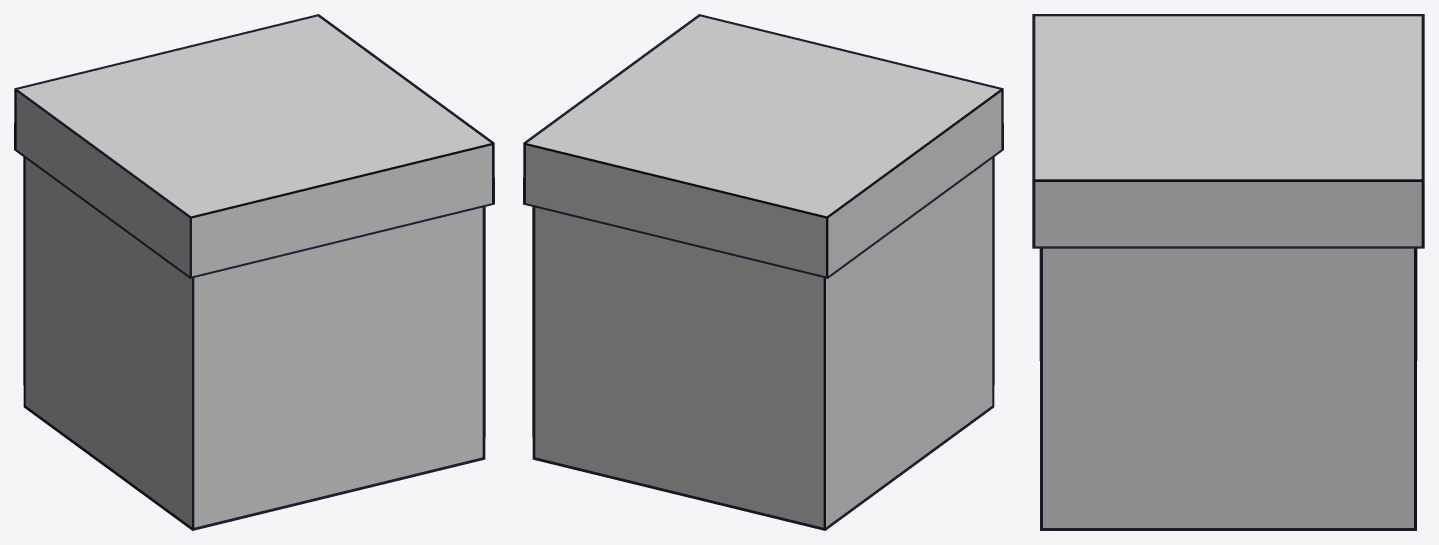
The picture shows the model from 3 angles, left to right: view 1: azimuth 30°, elevation 25°; view 2: azimuth 150°, elevation 25°; view 3: azimuth 270°, elevation 25°; orthographic projection. The views are drawn at different scales.
Parts seen in each view (by area): view 1: bottom, top; view 2: bottom, top; view 3: bottom, top.
Boxes of the visible parts, <box> form: bottom: <box>23,157,485,530</box>; top: <box>14,14,494,278</box>; bottom: <box>532,157,994,530</box>; top: <box>523,14,1003,278</box>; bottom: <box>1039,248,1417,530</box>; top: <box>1032,14,1424,248</box>.
Bounding box in the file's own units: 2.09 × 2.09 × 2.09.
